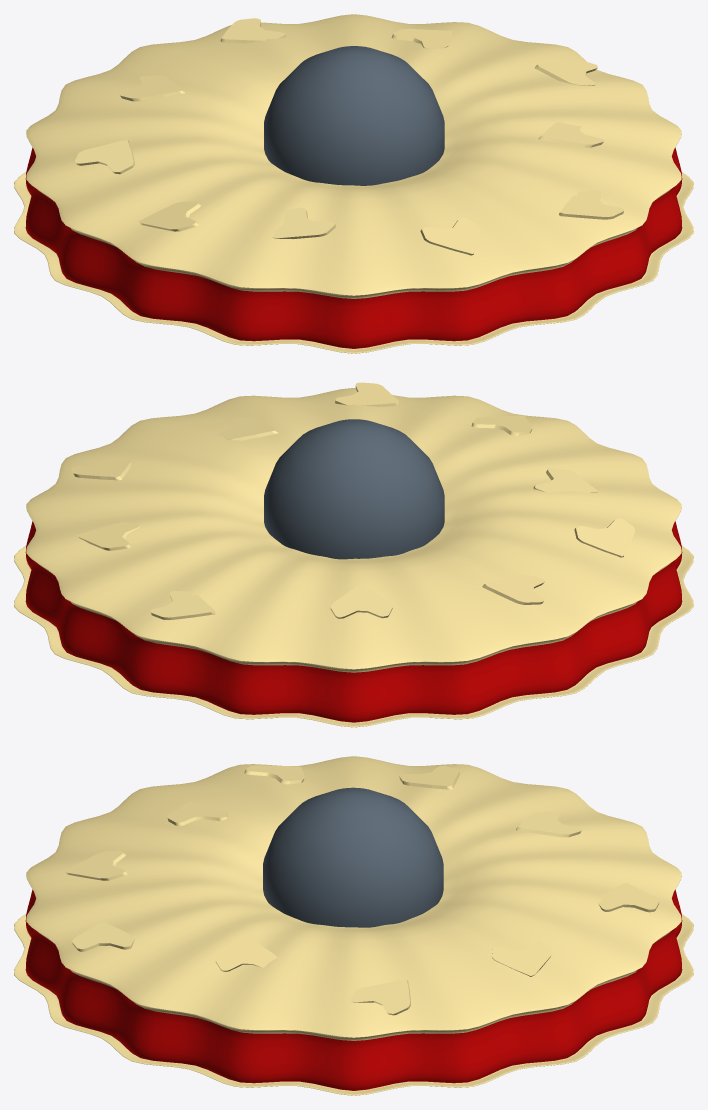
The model's file is jammie dogger ufo 2.fbx.
The picture shows the model from 3 angles, top to bottom: view 1: azimuth 30°, elevation 25°; view 2: azimuth 150°, elevation 25°; view 3: azimuth 270°, elevation 25°; orthographic projection.
Parts seen in each view (by area): view 1: jammie_dogger_ufo, pSphere14, pCube9, pCube13, pCube11, pCube17, pCube12, pCube18, pCube14, pCube15, pCube10, pCube19; view 2: jammie_dogger_ufo, pSphere14, pCube12, pCube14, pCube13, pCube15, pCube19, pCube17, pCube11, pCube18, pCube10, pCube9; view 3: jammie_dogger_ufo, pSphere14, pCube18, pCube10, pCube19, pCube9, pCube17, pCube15, pCube14, pCube13, pCube11, pCube12.
Part boxes in pixels (left/top/right/bottom): jammie_dogger_ufo: left=14, top=14, right=693, bottom=353; pSphere14: left=264, top=46, right=444, bottom=185; pCube9: left=420, top=217, right=480, bottom=255; pCube13: left=75, top=140, right=134, bottom=174; pCube11: left=272, top=207, right=335, bottom=238; pCube17: left=559, top=190, right=624, bottom=219; pCube12: left=138, top=201, right=200, bottom=231; pCube18: left=534, top=59, right=597, bottom=85; pCube14: left=119, top=75, right=185, bottom=101; pCube15: left=220, top=18, right=285, bottom=43; pCube10: left=538, top=122, right=604, bottom=147; pCube19: left=391, top=28, right=453, bottom=48; jammie_dogger_ufo: left=14, top=388, right=693, bottom=727; pSphere14: left=264, top=419, right=444, bottom=559; pCube12: left=574, top=518, right=634, bottom=557; pCube14: left=330, top=584, right=392, bottom=618; pCube13: left=482, top=575, right=544, bottom=604; pCube15: left=150, top=591, right=215, bottom=620; pCube19: left=77, top=522, right=139, bottom=550; pCube17: left=335, top=382, right=399, bottom=406; pCube11: left=533, top=468, right=597, bottom=494; pCube18: left=71, top=456, right=131, bottom=480; pCube10: left=218, top=417, right=278, bottom=440; pCube9: left=471, top=415, right=532, bottom=435; jammie_dogger_ufo: left=14, top=756, right=693, bottom=1095; pSphere14: left=263, top=787, right=443, bottom=927; pCube18: left=350, top=979, right=410, bottom=1015; pCube10: left=215, top=936, right=276, bottom=971; pCube19: left=492, top=942, right=552, bottom=976; pCube9: left=65, top=850, right=127, bottom=880; pCube17: left=72, top=922, right=134, bottom=951; pCube15: left=598, top=883, right=659, bottom=912; pCube14: left=516, top=812, right=581, bottom=837; pCube13: left=399, top=766, right=459, bottom=789; pCube11: left=167, top=801, right=228, bottom=825; pCube12: left=244, top=765, right=304, bottom=784.
Size of the model in its own units: 5.43 by 1.65 by 5.35.
